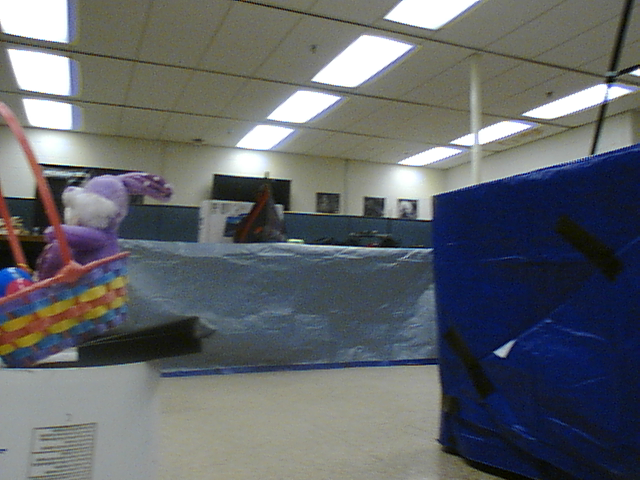bunny: (1, 103, 174, 366)
